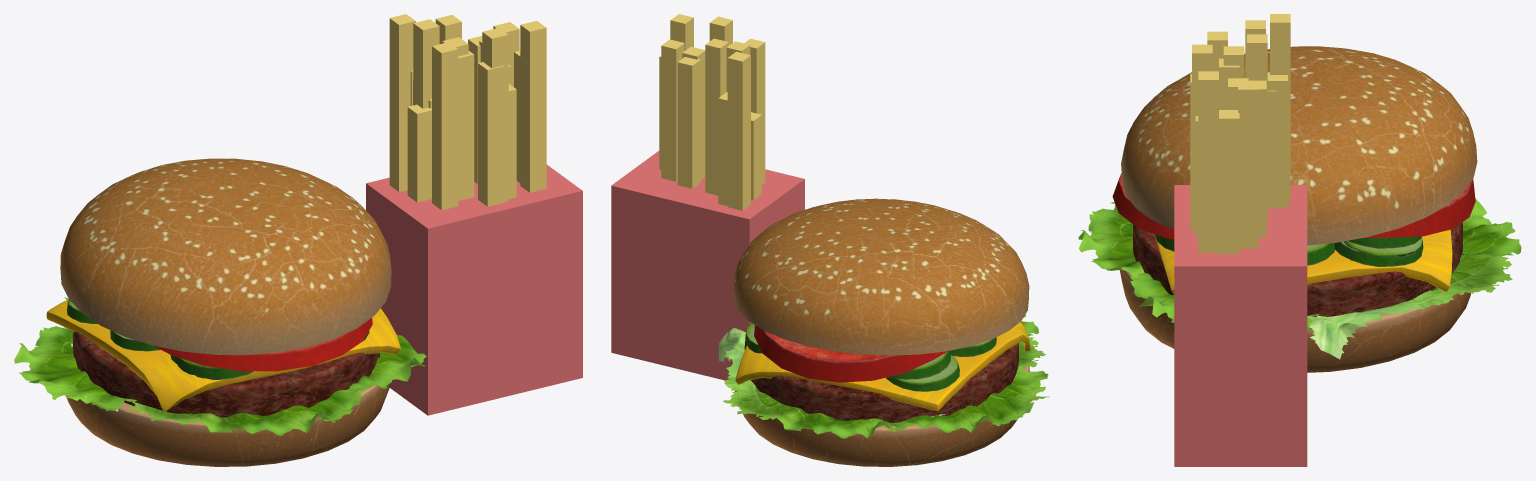
The model's file is double_burger.glb.
The picture shows the model from 3 angles, left to right: view 1: azimuth 30°, elevation 25°; view 2: azimuth 150°, elevation 25°; view 3: azimuth 270°, elevation 25°; orthographic projection. The views are drawn at different scales.
Visible parts, largest first — view 1: bun_0, FryCupNode, vegeis_1, Fry_4, Fry_14, pPlane16_4, pPlane17_5, Fry_18, Fry_8, Fry_15, Fry_1, Fry_11 (+5 smaller); view 2: bun_0, FryCupNode, vegeis_1, pPlane15_3, Fry_8, pPlane16_4, Fry_9, Fry_10, Fry_12, Fry_14, Fry_3, Fry_1 (+4 smaller); view 3: bun_0, FryCupNode, pPlane15_3, vegeis_1, Fry_4, Fry_12, Fry_17, pPlane17_5, Fry_3, Fry_8, Fry_9, Fry_16 (+7 smaller).
Boxes of the visible parts, box(x1,y1,x2,y2) form: bun_0: box(46, 158, 400, 466); FryCupNode: box(366, 164, 582, 415); vegeis_1: box(67, 299, 372, 379); Fry_4: box(520, 20, 546, 192); Fry_14: box(432, 42, 458, 210); pPlane16_4: box(14, 326, 136, 411); pPlane17_5: box(70, 339, 366, 436); Fry_18: box(478, 62, 504, 206); Fry_8: box(389, 14, 415, 192); Fry_15: box(458, 51, 474, 200); Fry_1: box(407, 104, 431, 202); Fry_11: box(413, 19, 439, 108); bun_0: box(733, 198, 1030, 466); FryCupNode: box(611, 151, 804, 380); vegeis_1: box(745, 322, 996, 391); pPlane15_3: box(718, 328, 927, 438); Fry_8: box(727, 51, 750, 210); pPlane16_4: box(890, 366, 1049, 433); Fry_9: box(677, 57, 700, 188); Fry_10: box(705, 38, 728, 195); Fry_12: box(661, 39, 684, 181); Fry_14: box(744, 38, 765, 184); Fry_3: box(718, 92, 727, 205); Fry_1: box(751, 112, 761, 200); bun_0: box(1119, 46, 1477, 372); FryCupNode: box(1174, 185, 1307, 466); pPlane15_3: box(1307, 198, 1521, 359); vegeis_1: box(1112, 173, 1475, 266); Fry_4: box(1198, 71, 1218, 252); Fry_12: box(1238, 81, 1258, 248); Fry_17: box(1219, 110, 1239, 254); pPlane17_5: box(1078, 201, 1144, 277); Fry_3: box(1267, 72, 1287, 207); Fry_8: box(1270, 14, 1290, 201); Fry_9: box(1249, 80, 1266, 237); Fry_16: box(1192, 44, 1212, 231).
Size of the model in its own units: 0.2016 by 0.1426 by 0.15.
5 materials, 3 textured.
